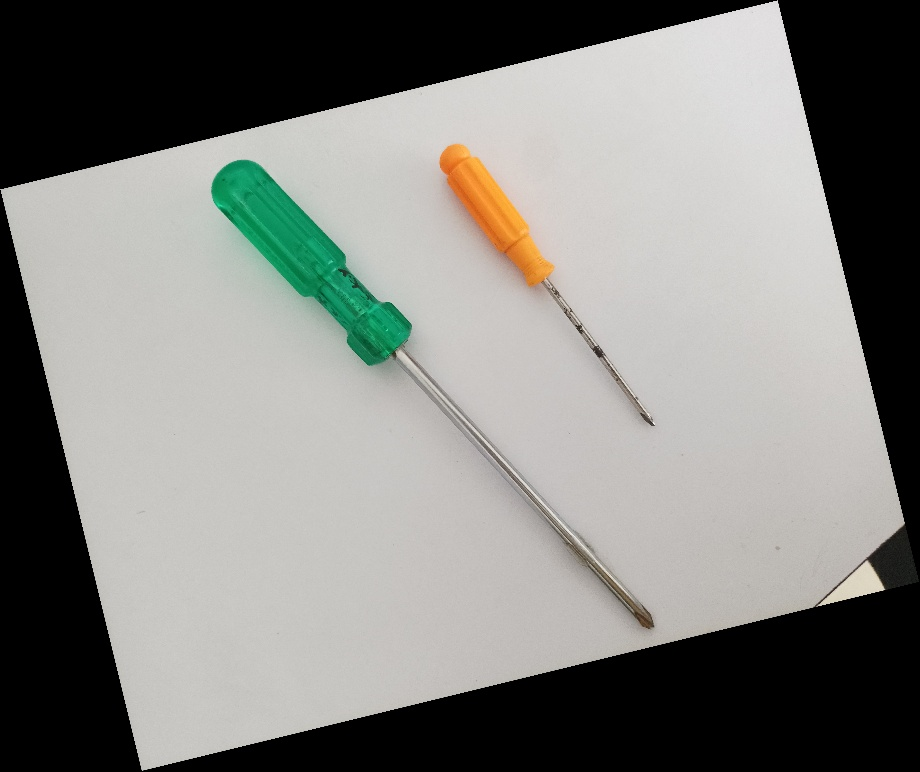screwdriver: (208, 157, 659, 635), (435, 139, 659, 431)
